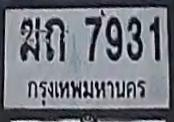1: (149, 16, 159, 60)
3: (126, 16, 143, 60)
7: (84, 16, 101, 61)
9: (105, 16, 121, 60)
A06: (19, 16, 40, 60)
A22: (45, 16, 66, 63)
BKK: (23, 75, 149, 107)
